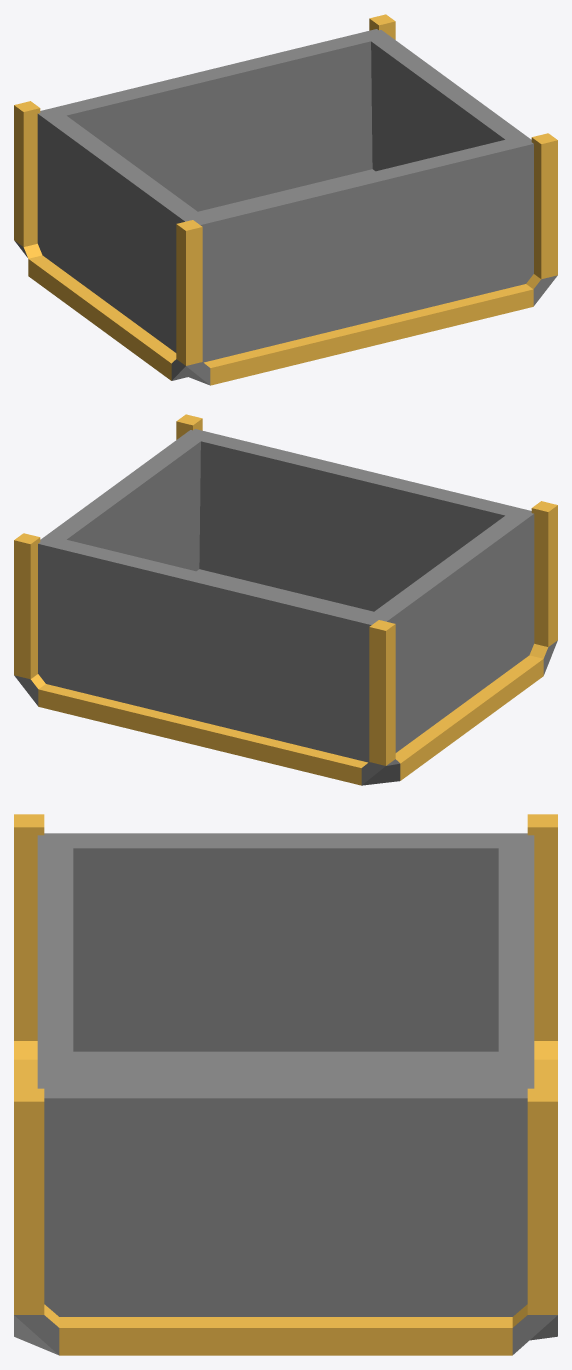
File: chest_001.glb
3 renders of one model, top to bottom at view 1: azimuth 30°, elevation 25°; view 2: azimuth 150°, elevation 25°; view 3: azimuth 270°, elevation 25°, orthographic. The views are drawn at different scales.
Parts seen in each view (by area): view 1: chest.001; view 2: chest.001; view 3: chest.001.
Part boxes in pixels (x1,y1,x2,y2): chest.001: [14, 14, 557, 385]; chest.001: [14, 414, 557, 785]; chest.001: [14, 814, 557, 1355].
Bounding box in the file's own units: 1.49 × 0.6152 × 1.19.
1 material, 1 textured.
